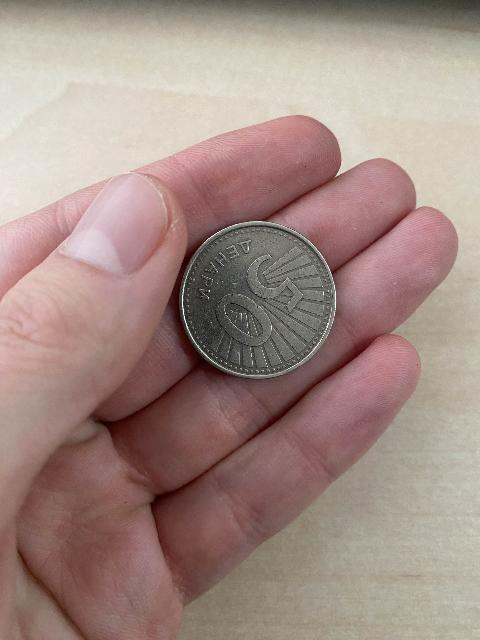coin: (178, 223, 332, 377)
